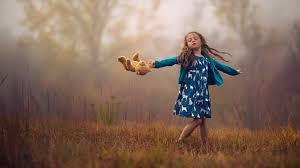child: (121, 27, 250, 152)
